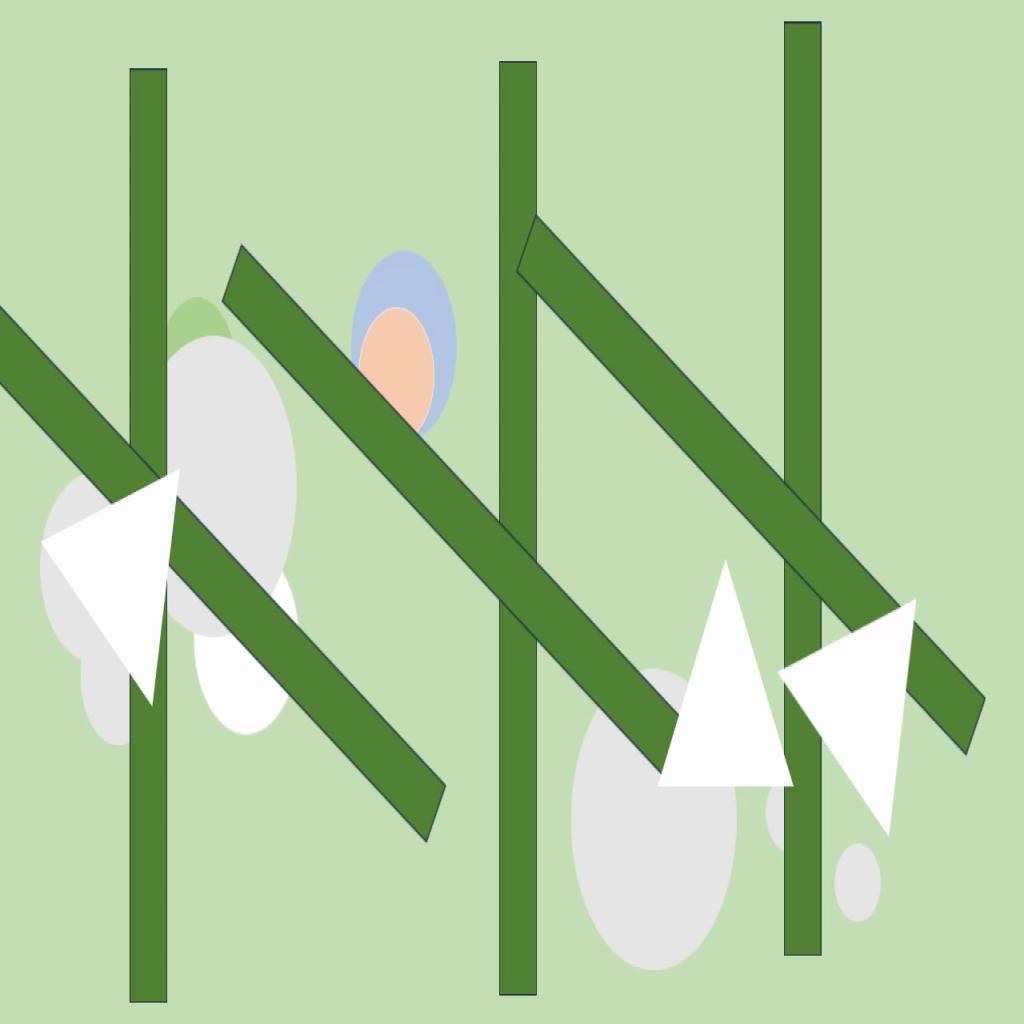Circle: (569, 666, 738, 970), (136, 334, 297, 635), (41, 462, 156, 664), (350, 252, 459, 442), (193, 557, 300, 736), (81, 600, 163, 747), (358, 306, 437, 441), (154, 294, 233, 418), (833, 842, 883, 920), (765, 777, 807, 855)
